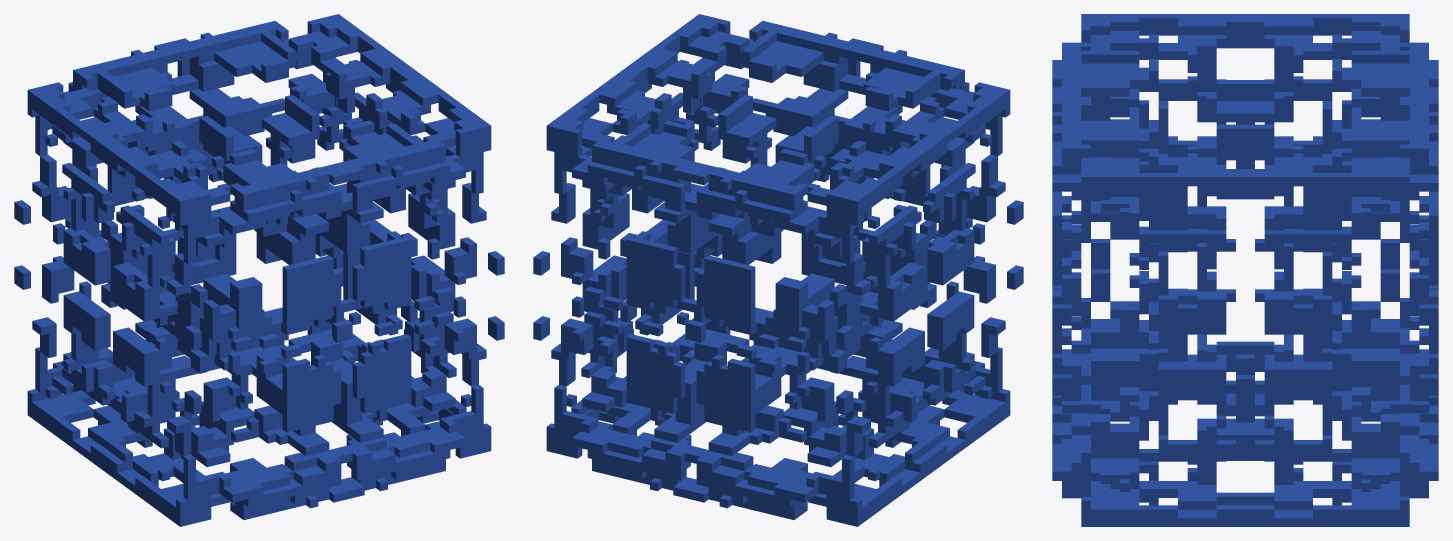
File: 蓝色模型.obj
3 views of the same model, side by side, from view 1: azimuth 30°, elevation 25°; view 2: azimuth 150°, elevation 25°; view 3: azimuth 270°, elevation 25° (orthographic). The views are drawn at different scales.
Parts seen in each view (by area): view 1: 蓝色模型; view 2: 蓝色模型; view 3: 蓝色模型.
Boxes of the visible parts, box(x1,y1,x2,y2) form: 蓝色模型: box(14, 14, 504, 526); 蓝色模型: box(533, 14, 1023, 526); 蓝色模型: box(1052, 14, 1438, 526).
Bounding box in the file's own units: 40 × 40 × 40.
1 material, 1 textured.
